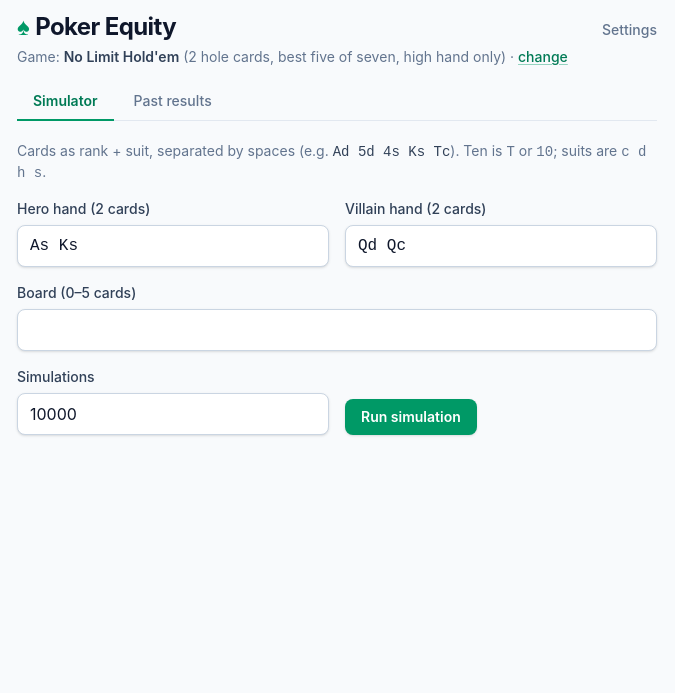
a hold'em run shows the high-hand breakdown without a save button
Replace the text in the field labelled "Hero hand (2 cards)" with "As Kd": (173, 246) left=17, top=225, right=329, bottom=267
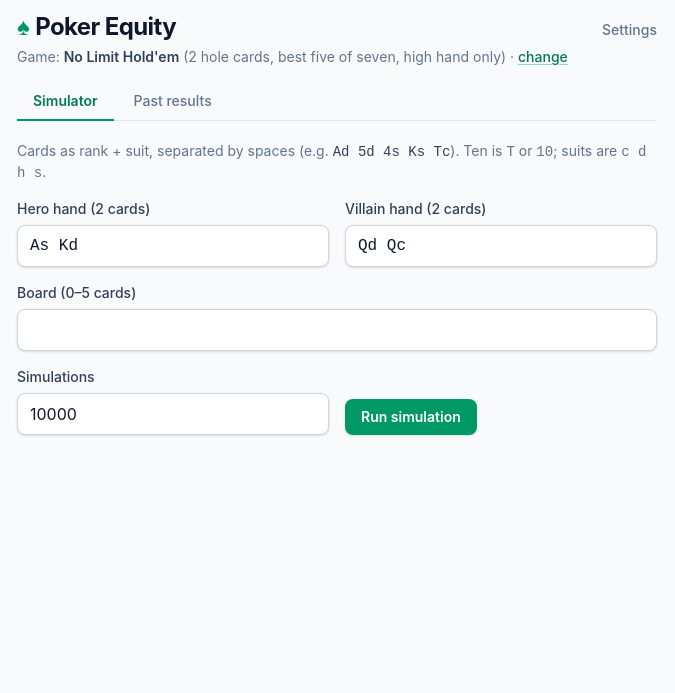
Replace the text in the field labelled "Villain hand (2 cards)" with "Ah Qc": (501, 246) left=345, top=225, right=657, bottom=267
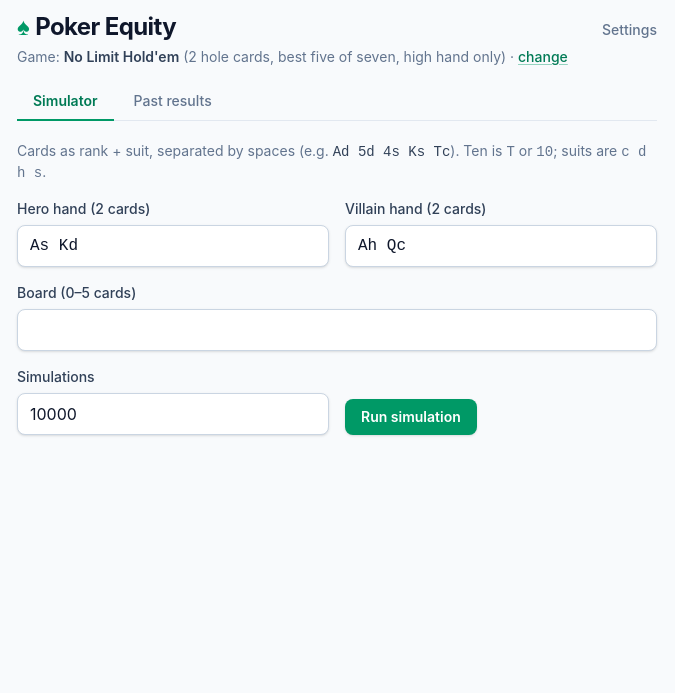
In the field labelled "Board (0–5 cards)": (337, 330) left=17, top=309, right=657, bottom=351, type "Ac 9d 7c 5s 2h"
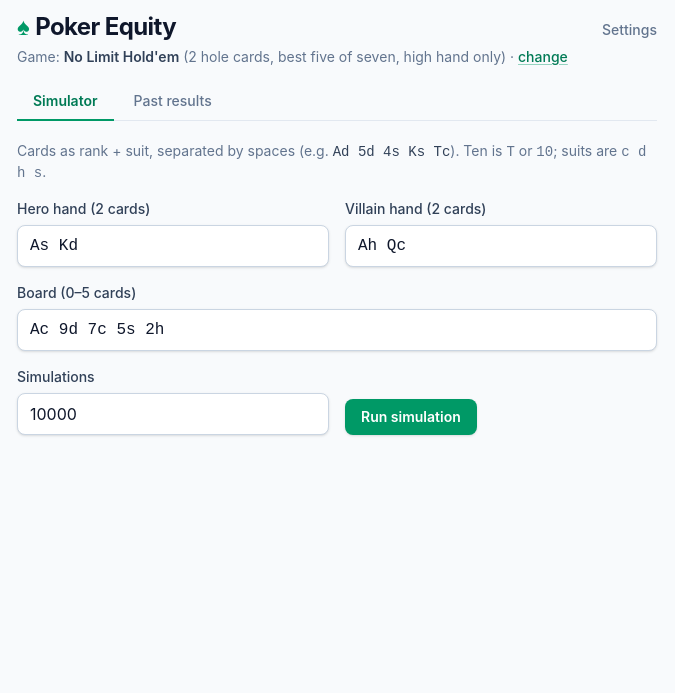
Replace the text in the number field labelled "Simulations" with "50": (173, 414) left=17, top=393, right=329, bottom=435
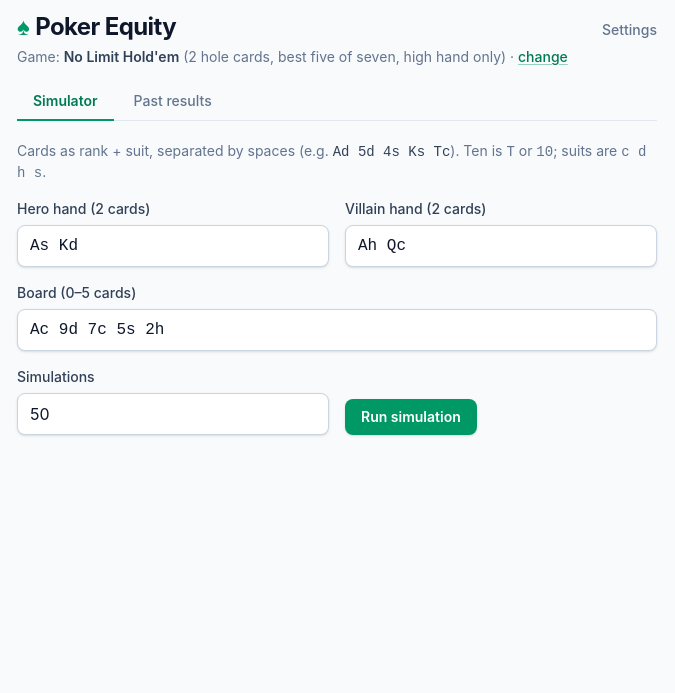
Click the button "Run simulation": click(411, 417) left=345, top=399, right=477, bottom=435
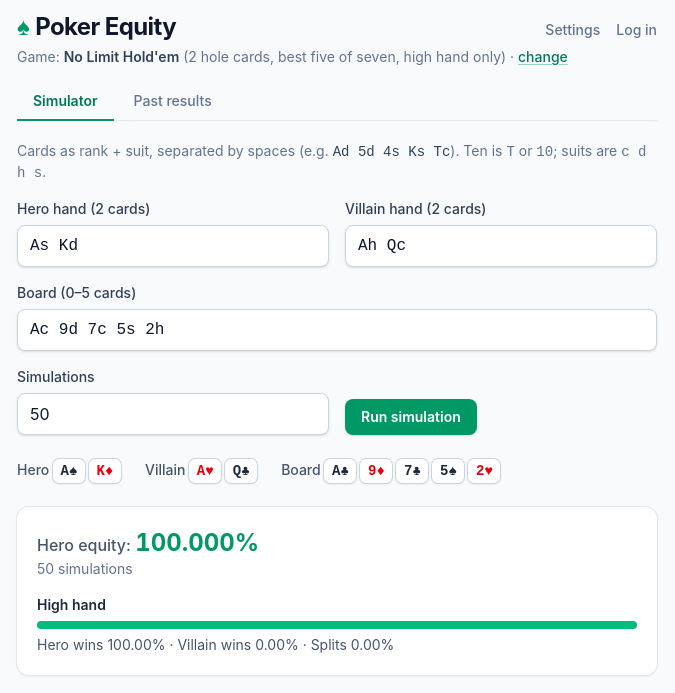
Check: the text "100.000%" is shown, box left=135, top=528, right=259, bottom=557
Check: the heading "High hand" is shown, box left=37, top=596, right=106, bottom=613
